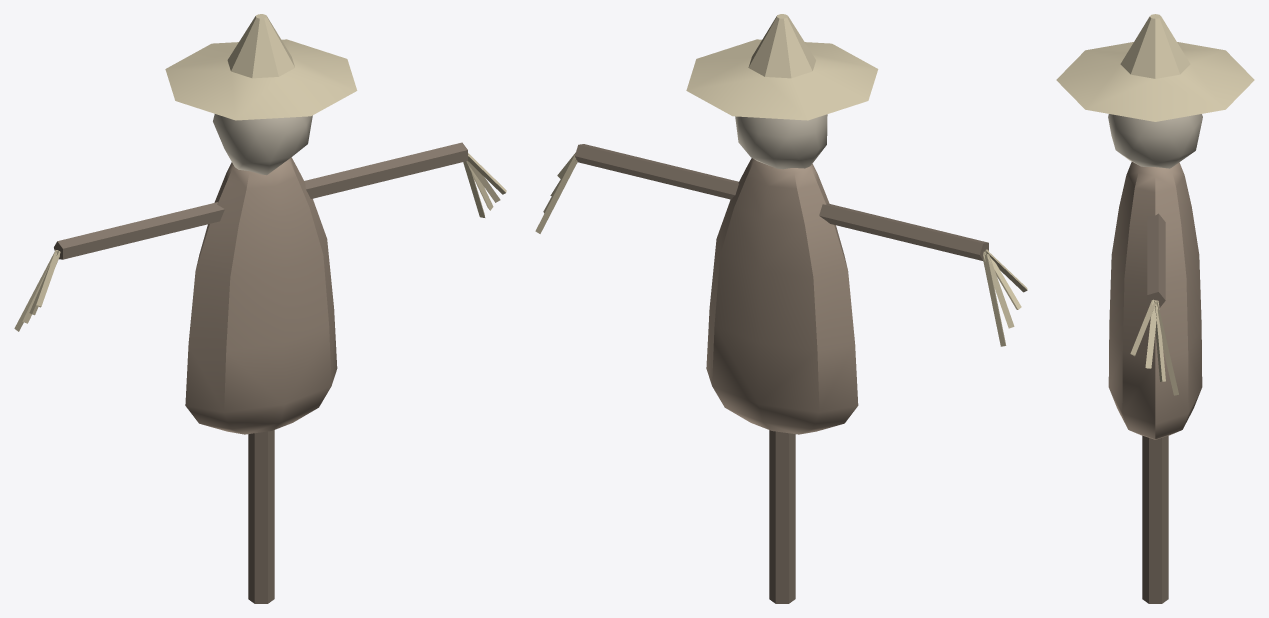
File: scarecrow.gltf
The picture shows the model from 3 angles, left to right: view 1: azimuth 30°, elevation 25°; view 2: azimuth 150°, elevation 25°; view 3: azimuth 270°, elevation 25°; orthographic projection.
Parts seen in each view (by area): view 1: Body; view 2: Body; view 3: Body.
Part boxes in pixels (left/top/right/bottom): Body: left=14, top=14, right=506, bottom=603; Body: left=535, top=14, right=1027, bottom=603; Body: left=1056, top=14, right=1254, bottom=603.
Bounding box in the file's own units: 1.86 × 2.2 × 0.68.
